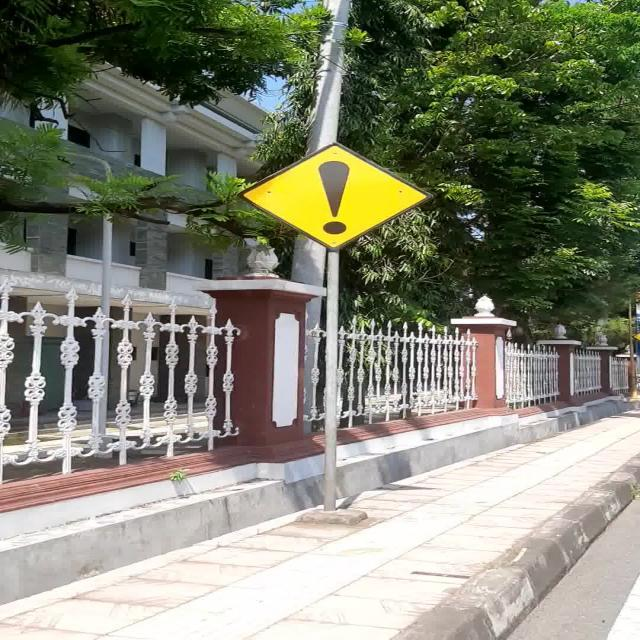Hati-Hati: (238, 142, 433, 250)
